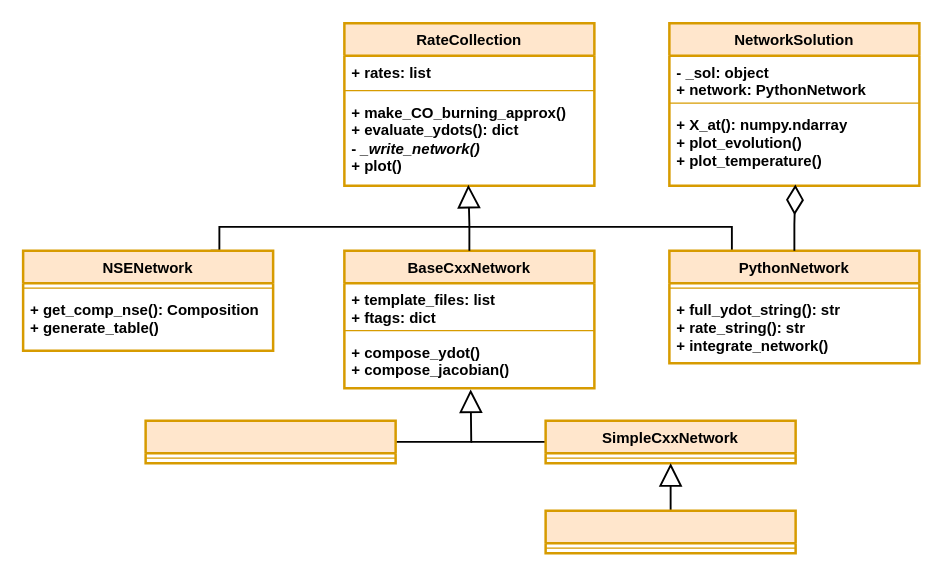
Some shapes in this 941 by 575 pixel diagram are drawn without their labels. The shapes that lost their labels are listed below. From the top down, each one's centre as x and y in pixels, then its label:
At [270,441]: "AmrexAstroCxxNetwork".
At [670,531]: "FortranNetwork".
